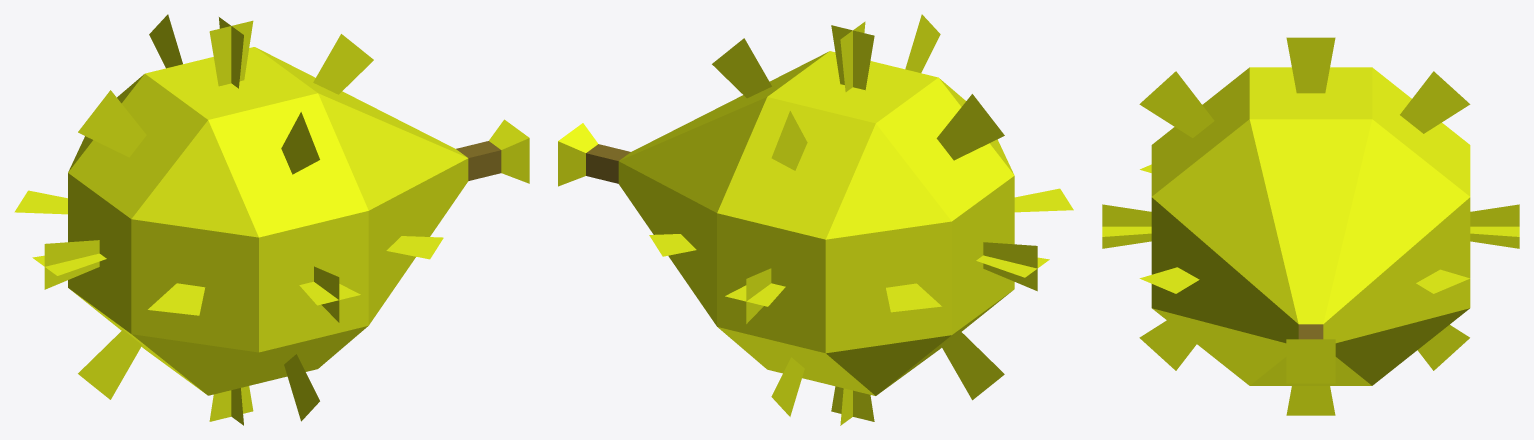
Rendered from obj_party_balloon_9_0.obj.
The picture shows the model from 3 angles, left to right: view 1: azimuth 30°, elevation 25°; view 2: azimuth 150°, elevation 25°; view 3: azimuth 270°, elevation 25°; orthographic projection. The views are drawn at different scales.
Bounding box in the file's own units: 0.3359 × 0.2656 × 0.2656.
